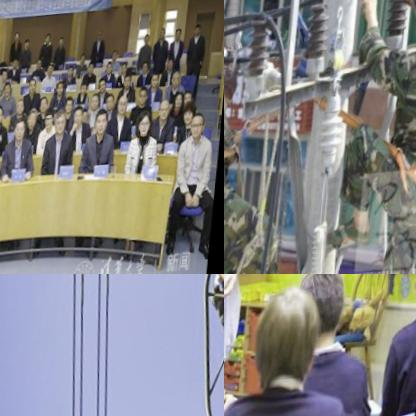head: (251, 287, 326, 401), (294, 274, 356, 355), (138, 116, 155, 144), (193, 120, 209, 146), (97, 114, 112, 141), (185, 107, 200, 133), (16, 121, 30, 147), (57, 113, 70, 139), (161, 104, 175, 128), (74, 110, 88, 133), (29, 113, 42, 134), (46, 112, 58, 134), (119, 101, 131, 120), (17, 100, 28, 119), (140, 93, 151, 112), (173, 77, 183, 96), (185, 96, 195, 115), (92, 98, 102, 116), (81, 84, 91, 101), (124, 78, 134, 95), (99, 81, 108, 99), (58, 83, 67, 100), (67, 100, 76, 117), (29, 82, 39, 97), (42, 100, 50, 118), (106, 67, 116, 81), (0, 105, 6, 128), (108, 100, 117, 115), (153, 79, 162, 94), (5, 85, 13, 101), (177, 100, 185, 116), (3, 70, 11, 85), (89, 64, 97, 78), (195, 31, 203, 45), (112, 56, 122, 67), (46, 36, 54, 49), (48, 67, 56, 80), (69, 68, 77, 81), (143, 67, 151, 80), (176, 33, 183, 47), (168, 64, 176, 76), (98, 33, 105, 46), (122, 68, 129, 81), (160, 34, 167, 46), (38, 62, 44, 75), (82, 57, 88, 70), (14, 60, 21, 71), (15, 33, 22, 44), (145, 40, 150, 52), (26, 42, 31, 53), (61, 41, 66, 51)
